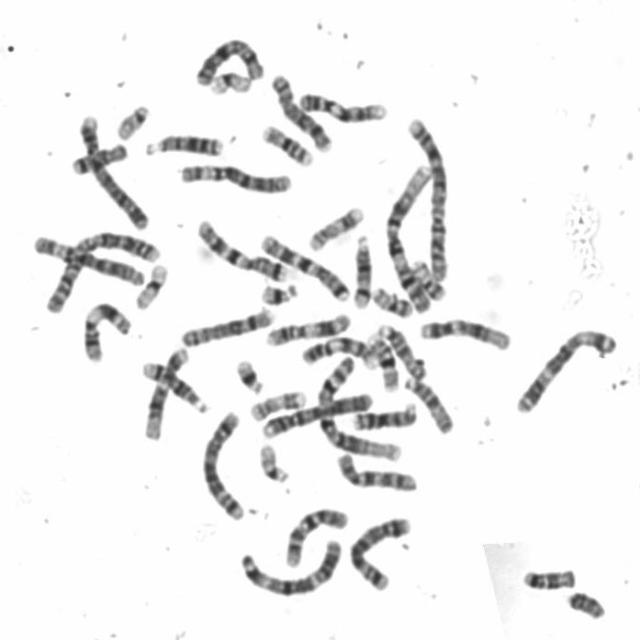A1: (313, 352, 403, 464), (382, 157, 440, 313)
A2: (38, 228, 162, 315), (403, 112, 451, 287)
A3: (511, 323, 619, 415), (235, 534, 343, 600)
B4: (76, 109, 151, 232), (257, 388, 375, 441)
B5: (198, 407, 247, 522), (346, 512, 415, 593)
C10: (280, 502, 349, 568), (332, 449, 419, 494)
C11: (79, 297, 133, 363), (262, 309, 352, 348)
C12: (141, 344, 190, 441), (417, 315, 511, 352)
C6: (28, 230, 147, 288), (175, 159, 294, 195)
C7: (257, 232, 350, 303), (193, 217, 288, 283)
C8: (268, 71, 333, 154), (178, 304, 276, 348)
C9: (296, 88, 388, 125), (298, 333, 379, 370)
D13: (348, 398, 419, 433), (141, 131, 225, 159)
D14: (139, 356, 209, 416), (350, 230, 374, 310)
D15: (369, 321, 428, 381), (402, 374, 455, 436)
E16: (258, 122, 315, 167), (364, 328, 400, 394)
E17: (304, 201, 366, 252), (246, 386, 309, 423)
E18: (68, 139, 128, 177), (520, 564, 576, 591)
F19: (132, 259, 171, 311), (206, 68, 253, 97)
F20: (409, 259, 449, 302), (369, 283, 414, 319)
G21: (232, 354, 266, 396), (258, 278, 299, 307)
G22: (255, 440, 293, 485), (112, 101, 151, 141)
X: (190, 34, 265, 90)
Y: (565, 588, 607, 620)
